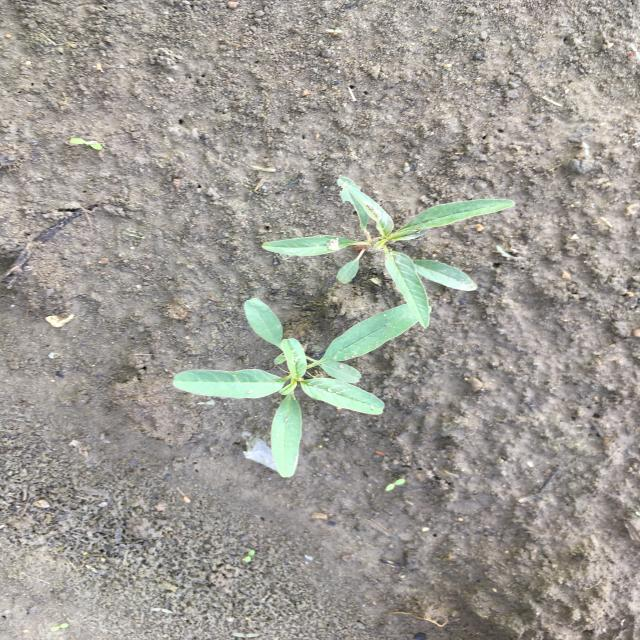Waterhemp: (169, 296, 435, 479), (260, 174, 518, 331)
